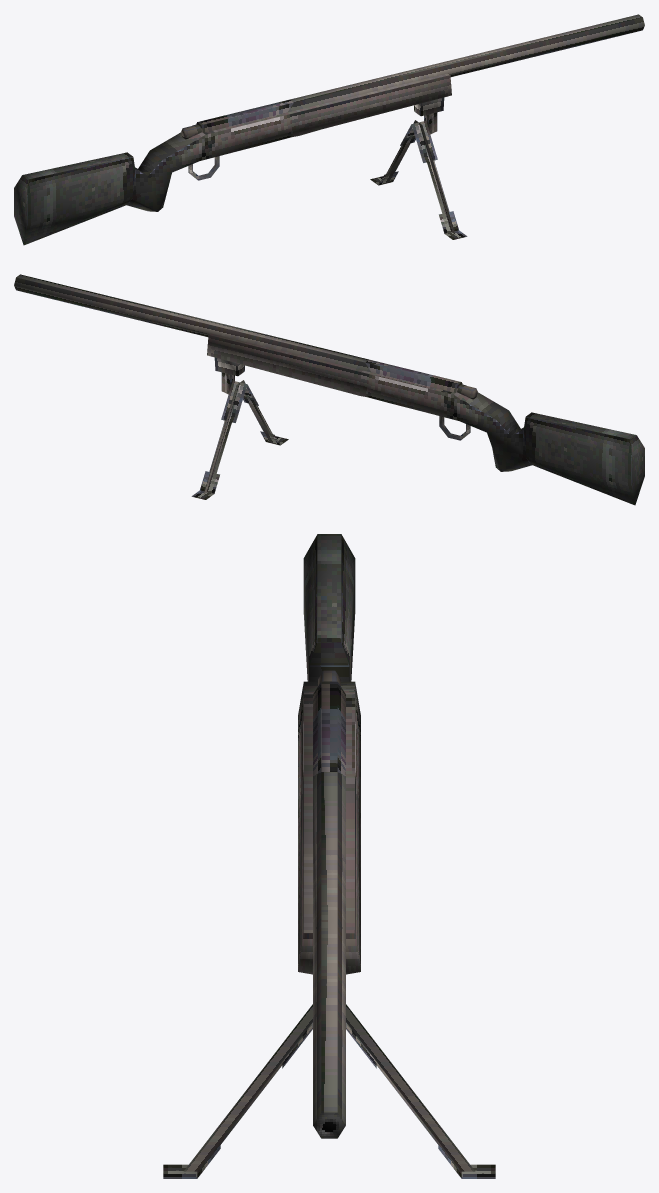
The model's file is mcmillanM87__N000_mac_high_v0100.glb.
The picture shows the model from 3 angles, top to bottom: view 1: azimuth 30°, elevation 25°; view 2: azimuth 150°, elevation 25°; view 3: azimuth 270°, elevation 25°; orthographic projection. The views are drawn at different scales.
Parts seen in each view (by area): view 1: N000_mac_high_v0100; view 2: N000_mac_high_v0100; view 3: N000_mac_high_v0100.
Part boxes in pixels (x1,y1,x2,y2): N000_mac_high_v0100: (14,14,644,245); N000_mac_high_v0100: (14,274,644,505); N000_mac_high_v0100: (163,534,495,1178).
Bounding box in the file's own units: 1.25 × 0.2658 × 0.2902.
2 materials, 2 textured.
